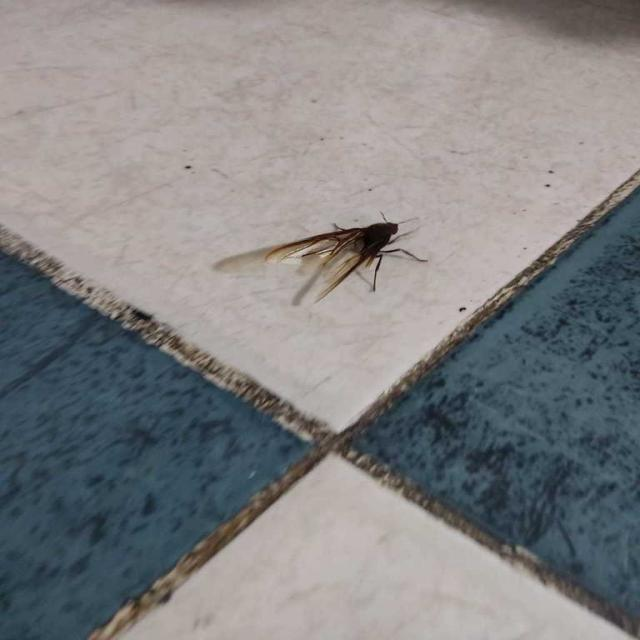Alive-Female-Alate: (265, 211, 428, 305)
